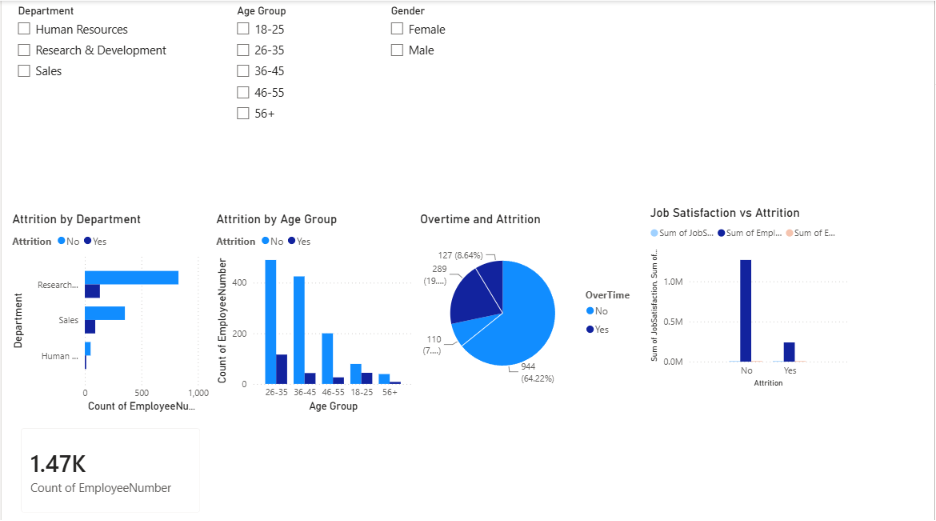

What the dashboard file says about the page in this screenshot:
{"tool":"powerbi","page":{"name":"Page 1","canvas":[1280,720],"ordinal":0},"visuals":[{"type":"slicer","fields":{"Values":["WA_Fn-UseC_-HR-Employee-Attrition - Copy.Department"]},"box":[10,0,280,280],"z":0},{"type":"slicer","fields":{"Values":["WA_Fn-UseC_-HR-Employee-Attrition - Copy.Age Group"]},"box":[310.1,0,279.9,279.9],"z":1},{"type":"slicer","fields":{"Values":["WA_Fn-UseC_-HR-Employee-Attrition - Copy.Gender"]},"box":[521.4,0,279.9,279.9],"z":2},{"type":"clusteredBarChart","title":"Attrition by Department","fields":{"Category":["WA_Fn-UseC_-HR-Employee-Attrition - Copy.Department"],"Y":["CountNonNull(WA_Fn-UseC_-HR-Employee-Attrition - Copy.EmployeeNumber)"],"Series":["WA_Fn-UseC_-HR-Employee-Attrition - Copy.Attrition"]},"box":[10,290,280,280],"z":3},{"type":"clusteredColumnChart","title":"Attrition by Age Group","fields":{"Category":["WA_Fn-UseC_-HR-Employee-Attrition - Copy.Age Group"],"Y":["CountNonNull(WA_Fn-UseC_-HR-Employee-Attrition - Copy.EmployeeNumber)"],"Series":["WA_Fn-UseC_-HR-Employee-Attrition - Copy.Attrition"]},"box":[289.5,289.5,279.9,279.9],"z":4},{"type":"pieChart","title":"Overtime and Attrition","fields":{"Category":["WA_Fn-UseC_-HR-Employee-Attrition - Copy.OverTime"],"Y":["CountNonNull(WA_Fn-UseC_-HR-Employee-Attrition - Copy.EmployeeNumber)"],"Series":["WA_Fn-UseC_-HR-Employee-Attrition - Copy.Attrition"]},"box":[569.5,289.5,315.6,259.3],"z":5},{"type":"clusteredColumnChart","title":"Job Satisfaction vs Attrition","fields":{"Y":["Sum(WA_Fn-UseC_-HR-Employee-Attrition - Copy.JobSatisfaction)","Sum(WA_Fn-UseC_-HR-Employee-Attrition - Copy.EmployeeNumber)","Sum(WA_Fn-UseC_-HR-Employee-Attrition - Copy.EmployeeCount)"],"Category":["WA_Fn-UseC_-HR-Employee-Attrition - Copy.Attrition"]},"box":[885.1,279.9,279.9,255.2],"z":6},{"type":"cardVisual","fields":{"Data":["CountNonNull(WA_Fn-UseC_-HR-Employee-Attrition - Copy.EmployeeNumber)"]},"box":[10,570,280,150],"z":7}]}

Visuals, with their boxes in screenshot pixels (x1, y1, x2, y2), scaled from the page's 1280x720 canvas onto the 936x521 screenshot:
slicer - WA_Fn-UseC_-HR-Employee-Attrition - Copy.Department: [7, 0, 212, 203]
slicer - WA_Fn-UseC_-HR-Employee-Attrition - Copy.Age Group: [227, 0, 431, 203]
slicer - WA_Fn-UseC_-HR-Employee-Attrition - Copy.Gender: [381, 0, 586, 203]
"Attrition by Department" clusteredBarChart: [7, 210, 212, 412]
"Attrition by Age Group" clusteredColumnChart: [212, 209, 416, 412]
"Overtime and Attrition" pieChart: [416, 209, 647, 397]
"Job Satisfaction vs Attrition" clusteredColumnChart: [647, 203, 852, 387]
cardVisual - CountNonNull(WA_Fn-UseC_-HR-Employee-Attrition - Copy.EmployeeNumber): [7, 412, 212, 520]
